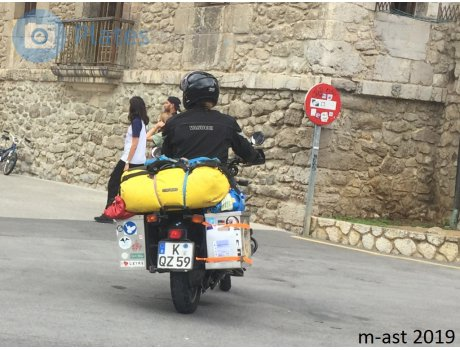License Plates: (159, 242, 192, 264)
